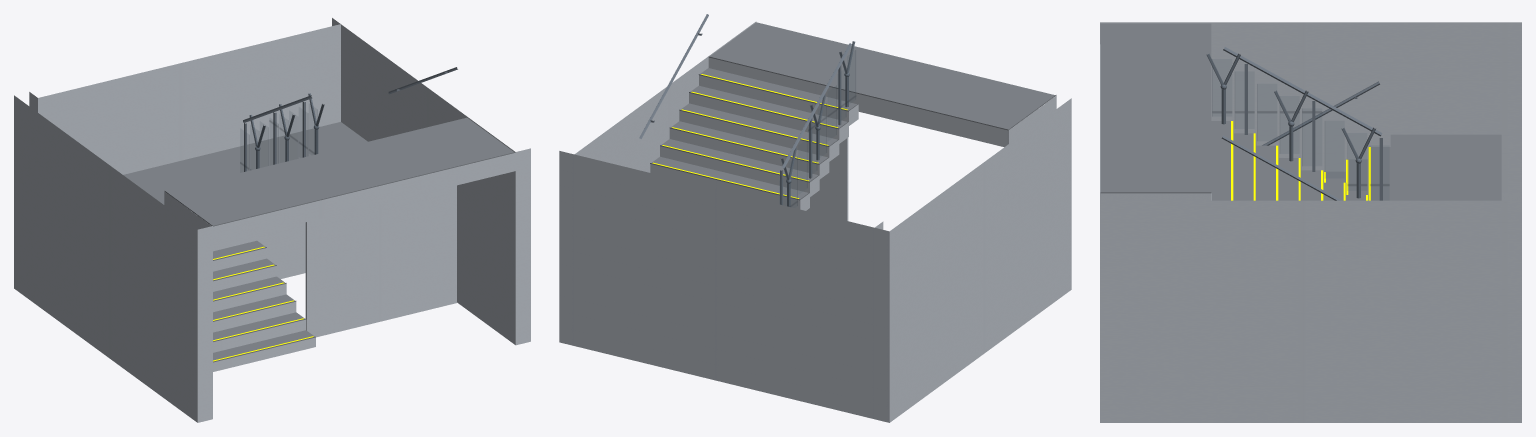
3 renders of one model, left to right at view 1: azimuth 30°, elevation 25°; view 2: azimuth 150°, elevation 25°; view 3: azimuth 270°, elevation 25°, orthographic. The views are drawn at different scales.
Visible parts, largest first — view 1: Core_Walls, Understair_Screen, Top_Landing_Slate, Top_Landing, Mid_Landing_Slate, Flight1_Cast, Treads_Slate, Mid_Landing, Branch_Fins, Nosing_Emergency, Guard_Posts, Guard_Glass_Centre; view 2: Core_Walls, Top_Landing_Slate, Flight2_Modules, Treads_Slate, Top_Landing, Understair_Screen, Nosing_Emergency, Branch_Fins, Guard_Posts, Guard_Glass_Centre, Guard_Cap_Rail, Handrail_Wall; view 3: Core_Walls, Top_Landing_Slate, Treads_Slate, Mid_Landing_Slate, Branch_Fins, Nosing_Emergency, Handrail_Wall, Top_Landing, Guard_Posts, Guard_Cap_Rail, Guard_Glass_Centre.
Boxes of the visible parts, x1=… form: Core_Walls: x1=14, y1=18, x2=530, y2=422; Understair_Screen: x1=305, y1=185, x2=456, y2=337; Top_Landing_Slate: x1=164, y1=117, x2=515, y2=226; Top_Landing: x1=164, y1=153, x2=515, y2=244; Mid_Landing_Slate: x1=123, y1=122, x2=367, y2=204; Flight1_Cast: x1=213, y1=234, x2=315, y2=371; Treads_Slate: x1=213, y1=240, x2=315, y2=362; Mid_Landing: x1=257, y1=222, x2=305, y2=279; Branch_Fins: x1=249, y1=93, x2=324, y2=168; Nosing_Emergency: x1=213, y1=246, x2=313, y2=361; Guard_Posts: x1=244, y1=102, x2=305, y2=171; Guard_Glass_Centre: x1=240, y1=110, x2=317, y2=169; Core_Walls: x1=559, y1=21, x2=1071, y2=422; Top_Landing_Slate: x1=708, y1=22, x2=1056, y2=130; Flight2_Modules: x1=650, y1=75, x2=858, y2=210; Treads_Slate: x1=650, y1=68, x2=858, y2=200; Top_Landing: x1=708, y1=57, x2=1056, y2=147; Understair_Screen: x1=806, y1=138, x2=848, y2=220; Nosing_Emergency: x1=652, y1=74, x2=847, y2=198; Branch_Fins: x1=780, y1=41, x2=855, y2=206; Guard_Posts: x1=780, y1=65, x2=841, y2=205; Guard_Glass_Centre: x1=787, y1=50, x2=855, y2=206; Guard_Cap_Rail: x1=782, y1=43, x2=851, y2=168; Handrail_Wall: x1=639, y1=14, x2=708, y2=138; Core_Walls: x1=1100, y1=22, x2=1521, y2=422; Top_Landing_Slate: x1=1100, y1=23, x2=1211, y2=193; Treads_Slate: x1=1211, y1=121, x2=1390, y2=200; Mid_Landing_Slate: x1=1390, y1=134, x2=1501, y2=200; Branch_Fins: x1=1206, y1=53, x2=1375, y2=198; Nosing_Emergency: x1=1231, y1=121, x2=1370, y2=200; Handrail_Wall: x1=1221, y1=81, x2=1379, y2=200; Top_Landing: x1=1100, y1=44, x2=1210, y2=200; Guard_Posts: x1=1244, y1=64, x2=1382, y2=200; Guard_Cap_Rail: x1=1223, y1=47, x2=1382, y2=136; Guard_Glass_Centre: x1=1212, y1=59, x2=1389, y2=199.
Size of what is drawn, in the model's own units: 5.5 by 3.9 by 5.25.
Materials: 6 (4 with a texture image).
